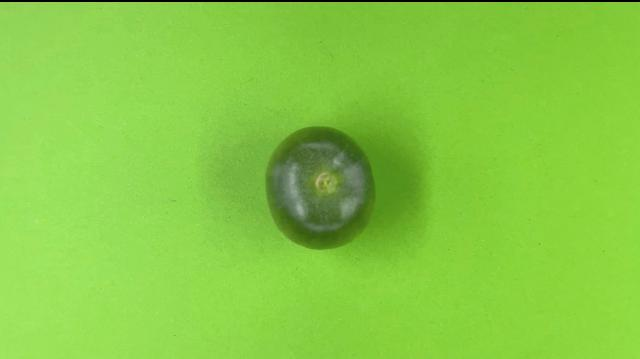Fruit Maturation: (263, 124, 379, 252)
